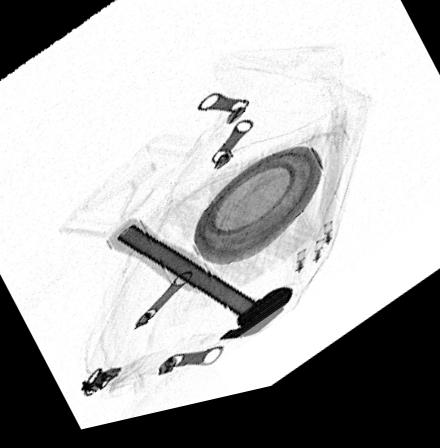Hammer: (105, 221, 294, 351)
